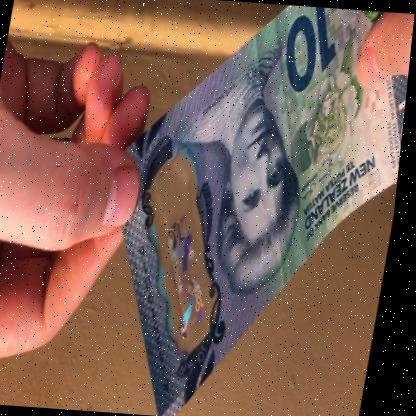10B: (150, 214, 233, 344)
